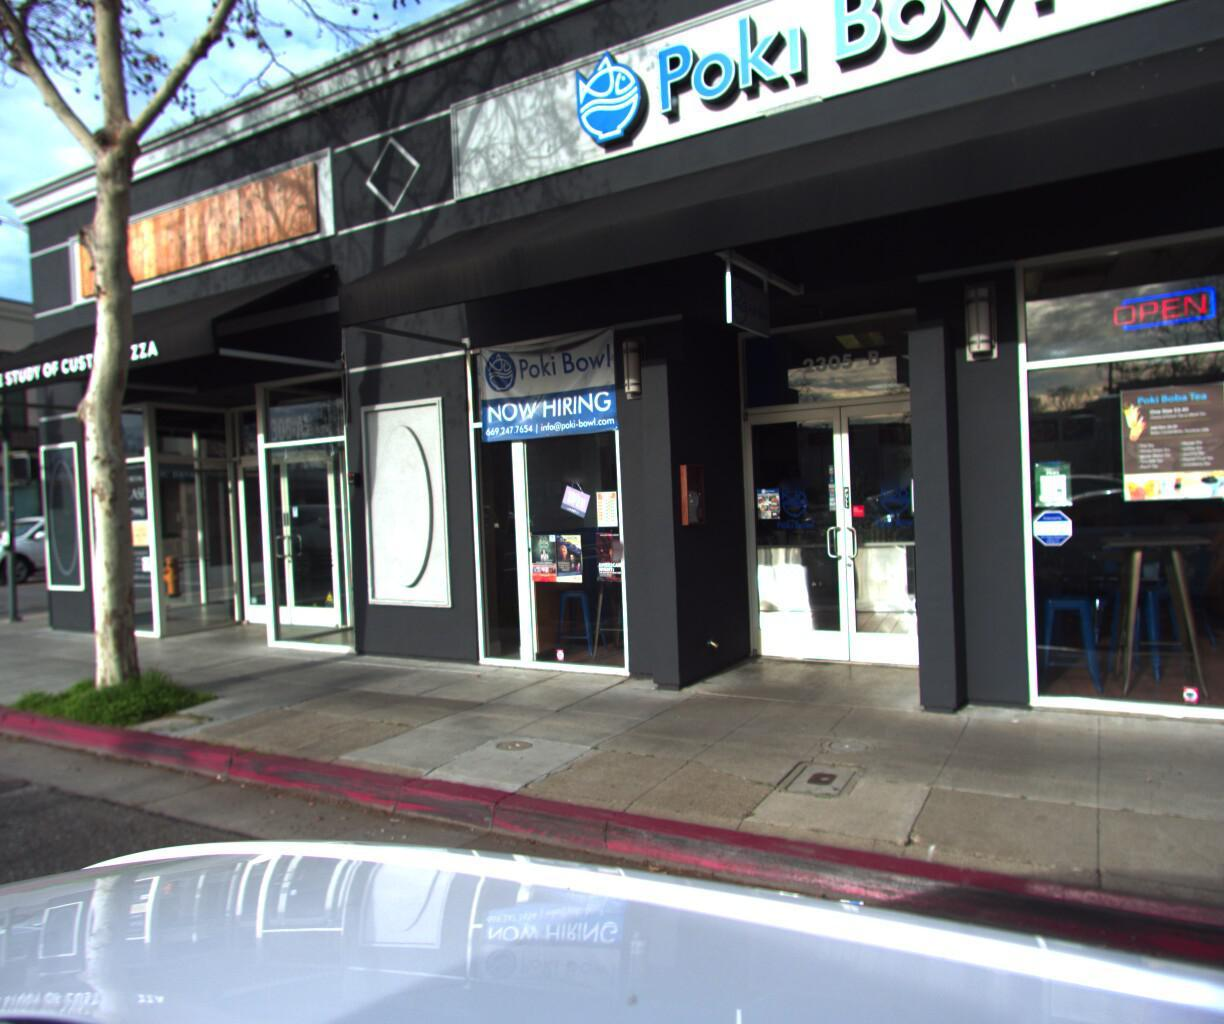car: (0, 510, 146, 588)
